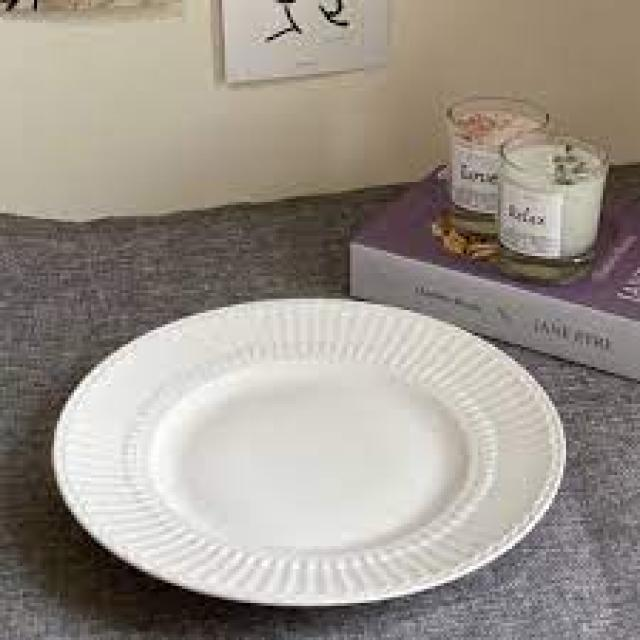Plate: (36, 288, 585, 619)
